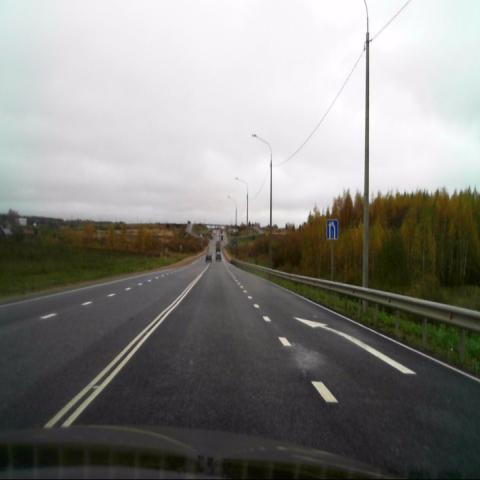5_15_5: (326, 219, 338, 240)
